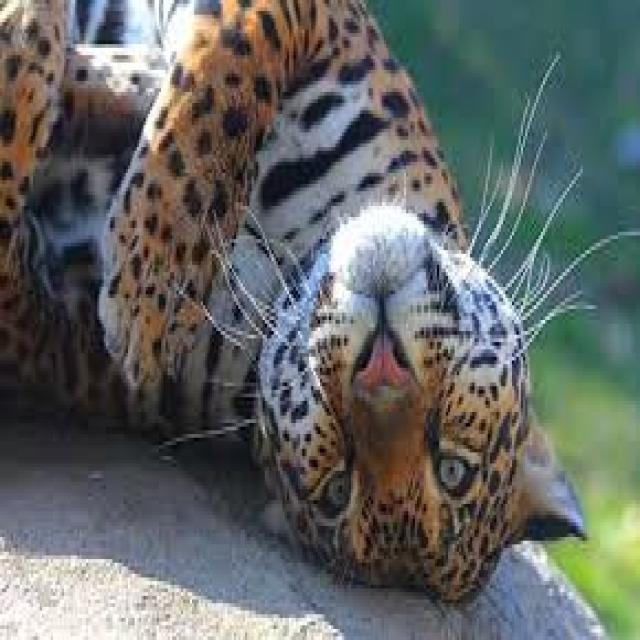Jaguar: (9, 8, 594, 610)
